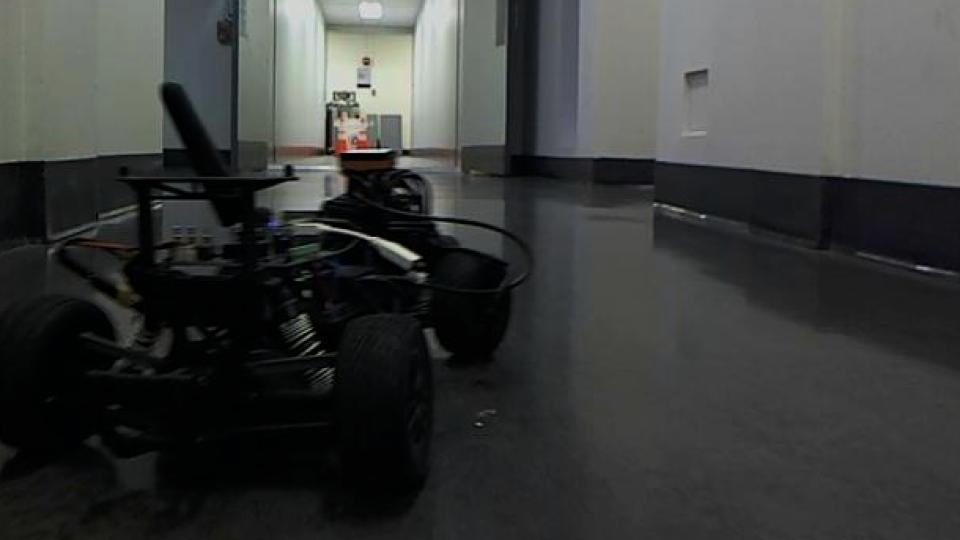car: (0, 79, 535, 505)
